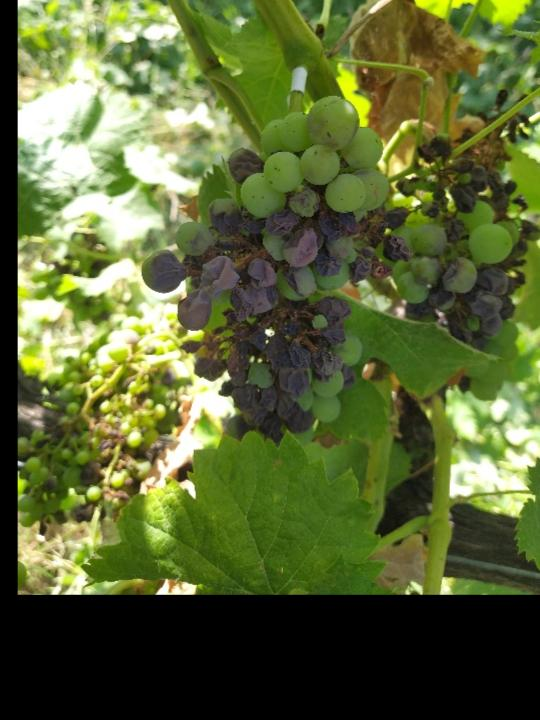grape: (138, 94, 413, 445), (377, 87, 540, 354)
